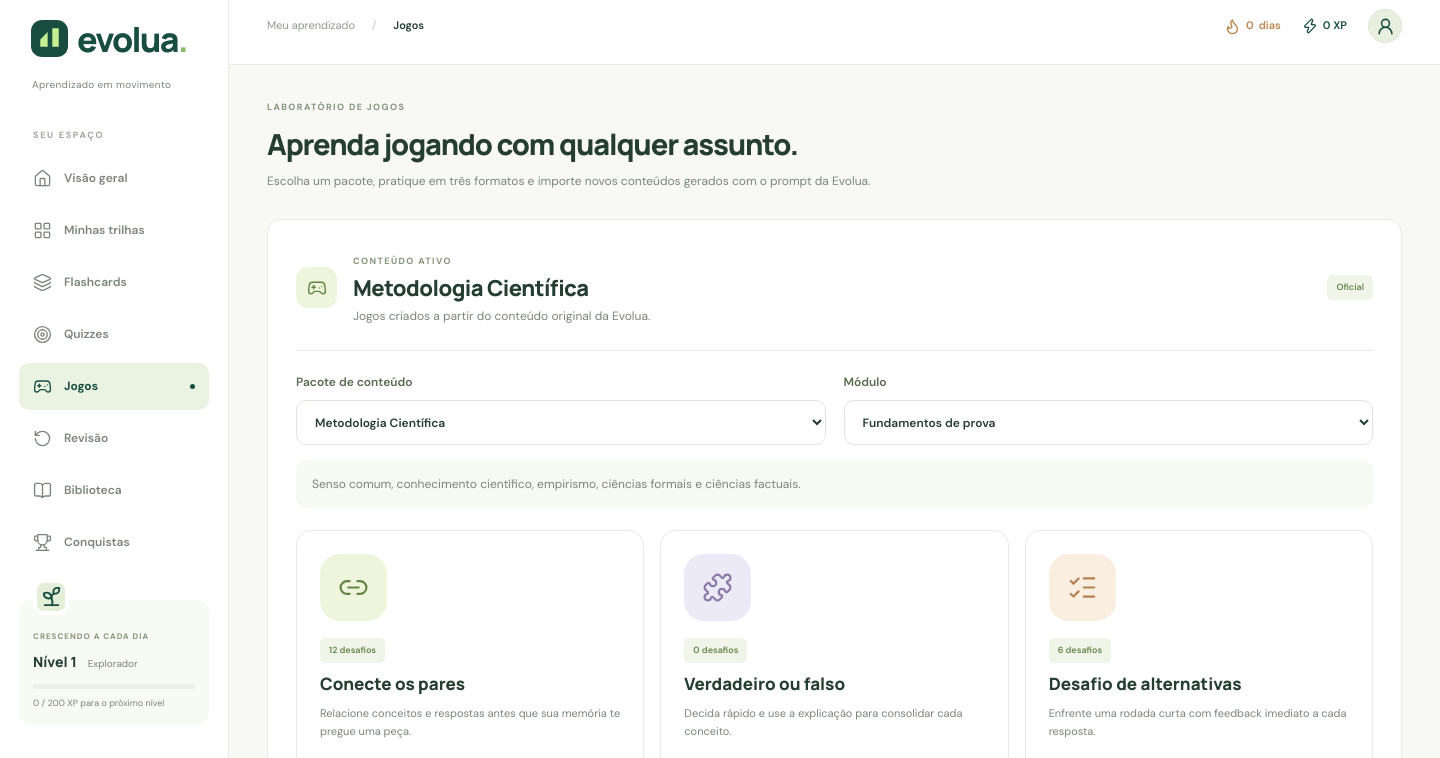
Test: assisted authoring and full games › finishes true/false and numbers the first and last questions correctly
Expected: the heading "Aprenda jogando com qualquer assunto." is shown, [267,124,870,165]
Select "Matemática de teste" in the dropdown labelled "Pacote de conteúdo": (561, 422) [296,400,826,445]
(page scrolled)
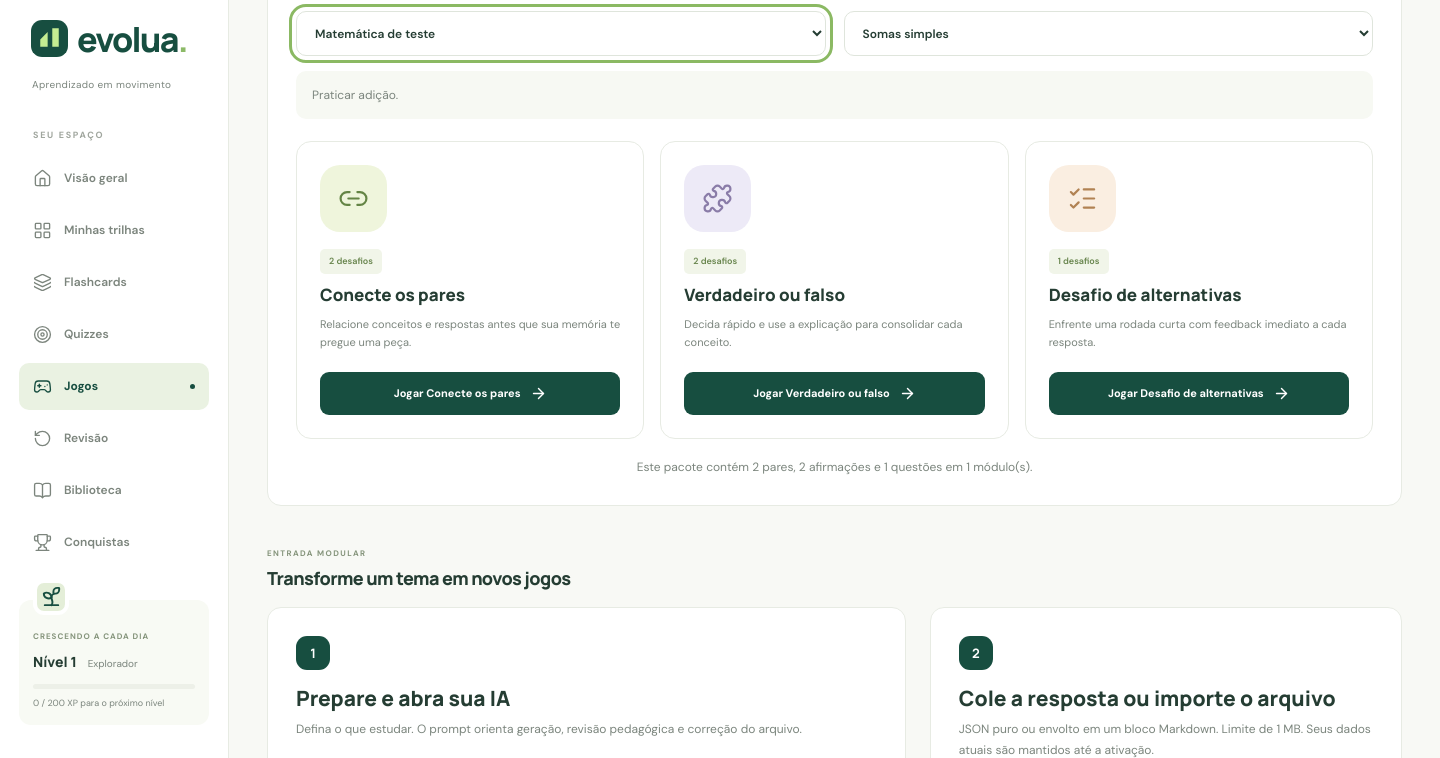
Click the button "Jogar Verdadeiro ou falso": (834, 394) [684,372,985,415]
(page scrolled)
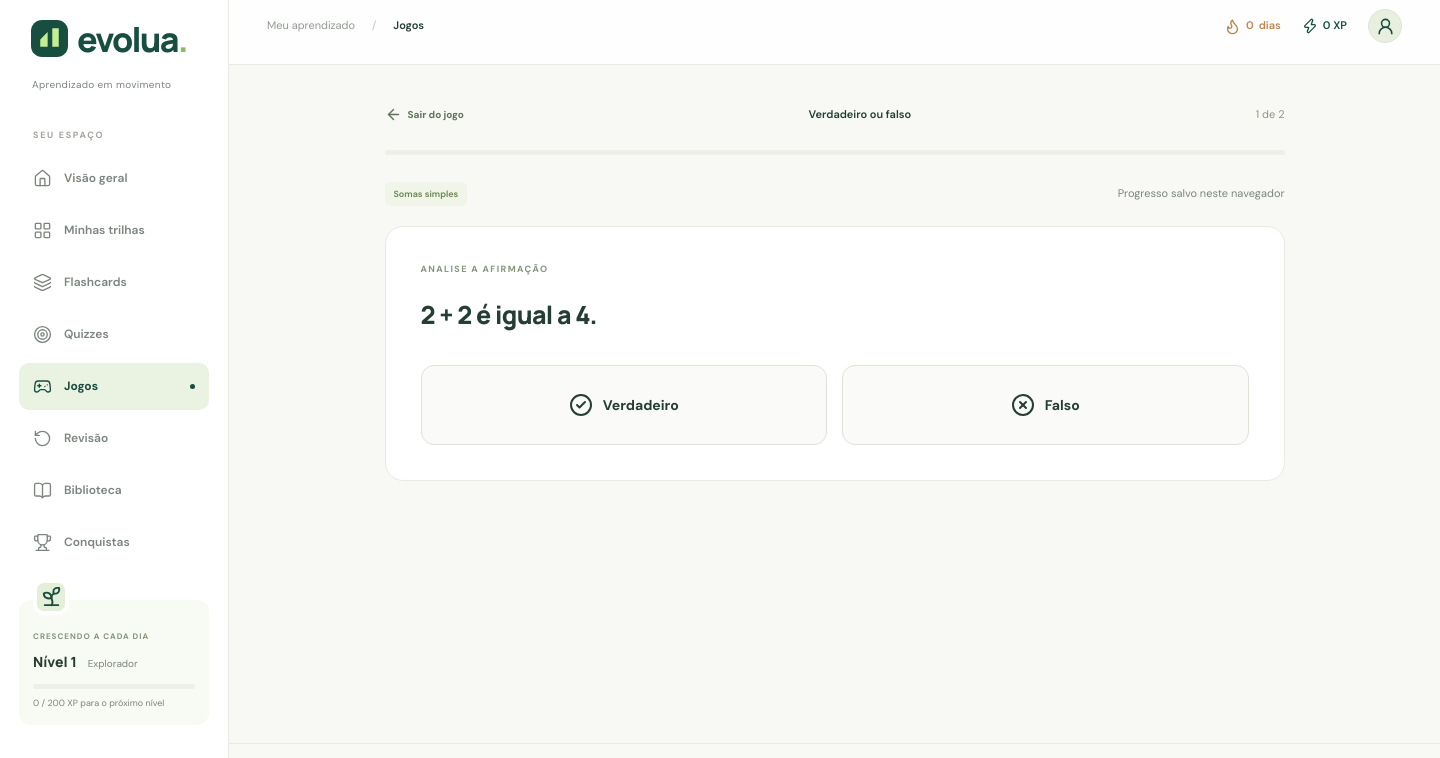
Click the button "Verdadeiro": (624, 405) [420,365,827,445]
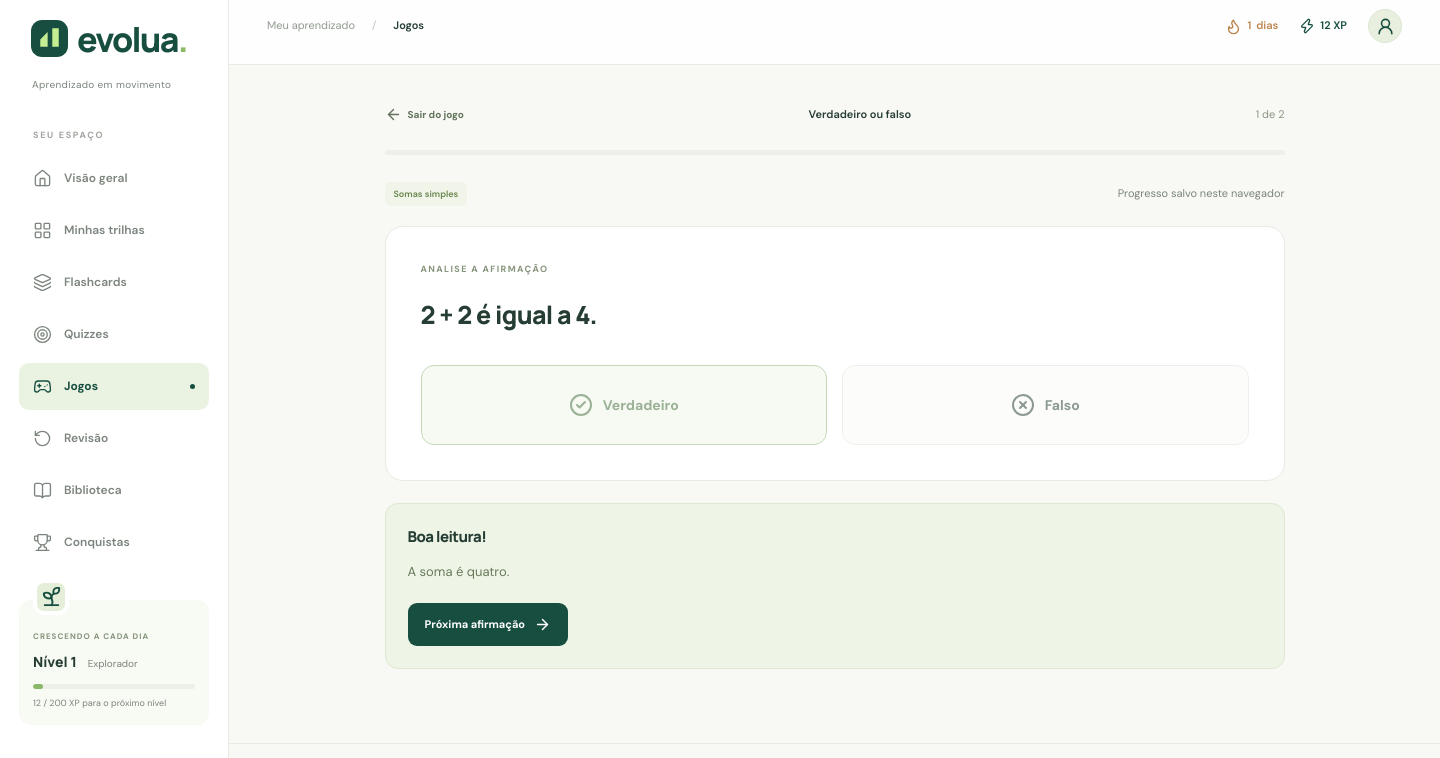
Expected: the button "Verdadeiro" is disabled, [420,365,827,445]
Click the button "Próxima afirmação": (488, 624) [408,603,568,646]
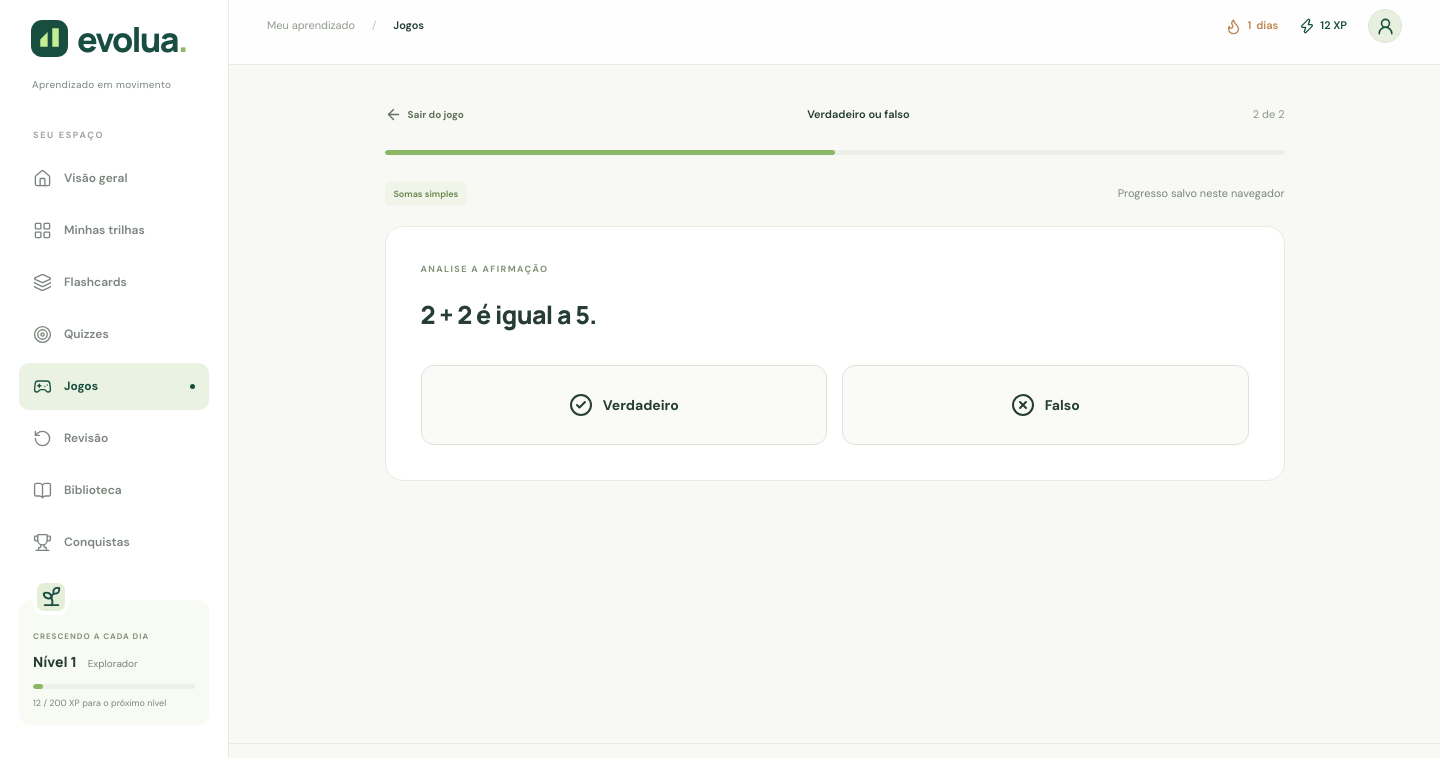
Click the button "Falso": (1045, 405) [842,365,1248,445]
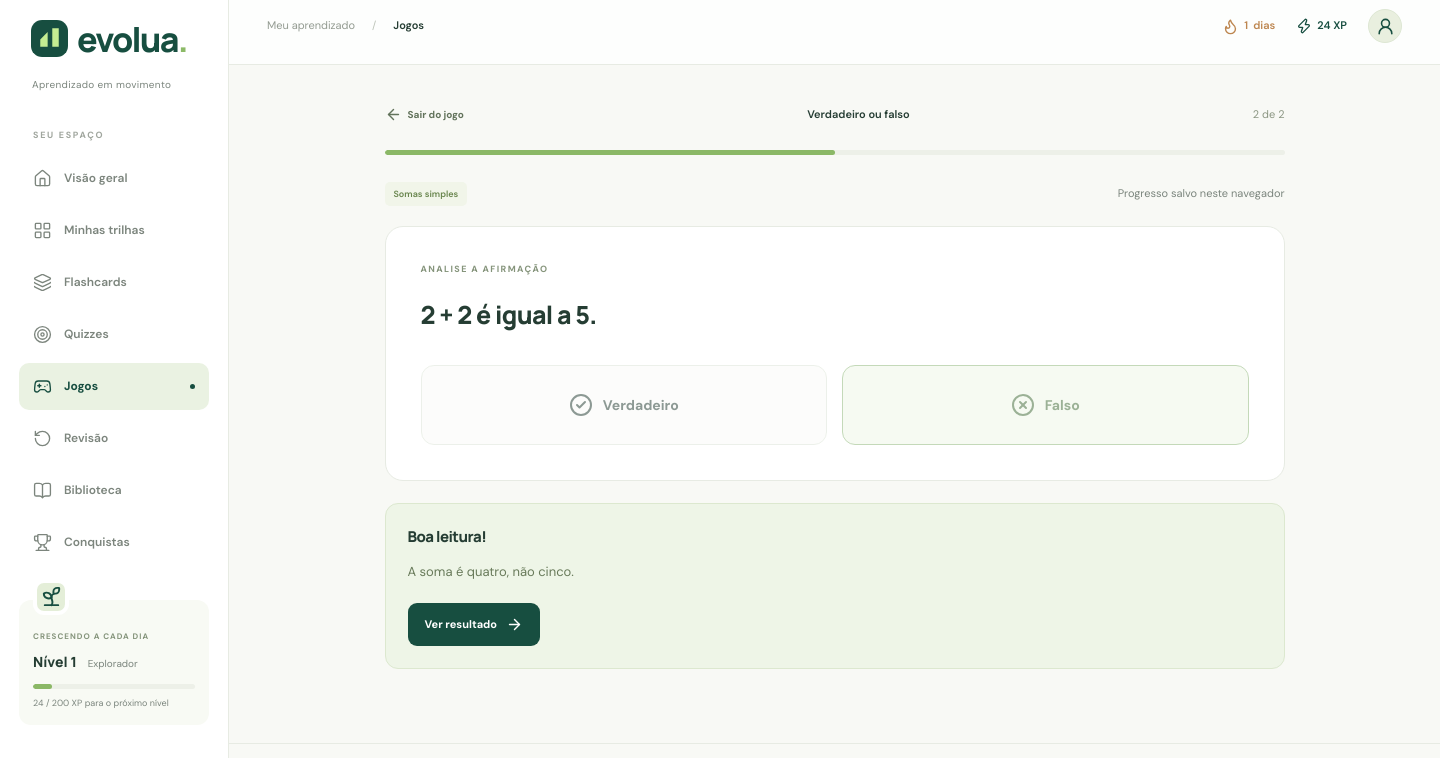
Expected: the button "Verdadeiro" is disabled, [420,365,827,445]
Click the button "Ver resultado": (474, 624) [408,603,540,646]
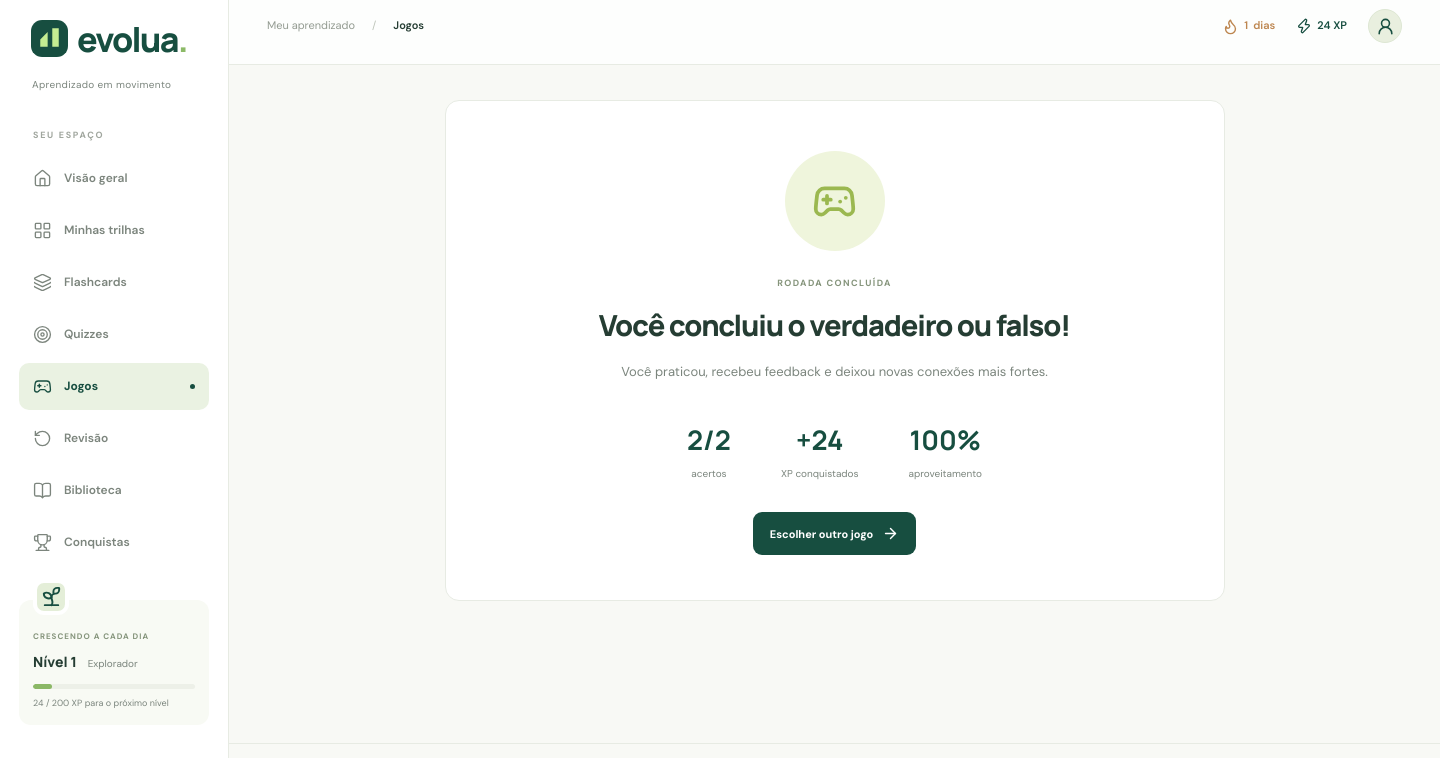
Expected: the text "2/2" is shown, [687,418,731,461]
